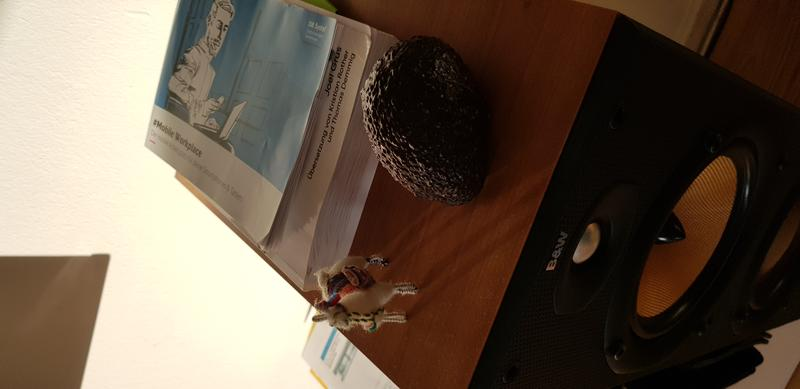Avocado: (351, 29, 511, 212)
Horse-Toy: (302, 249, 422, 342)
